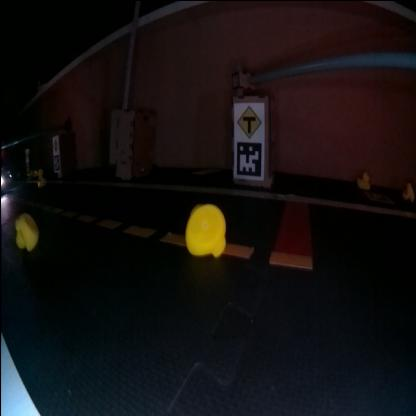Duckie: (185, 202, 226, 255), (15, 213, 38, 249), (402, 182, 414, 200), (358, 172, 369, 188), (38, 177, 44, 185)
Intersection sign: (236, 104, 262, 137)
QR code: (236, 140, 262, 176), (365, 190, 393, 200), (54, 153, 60, 169)
